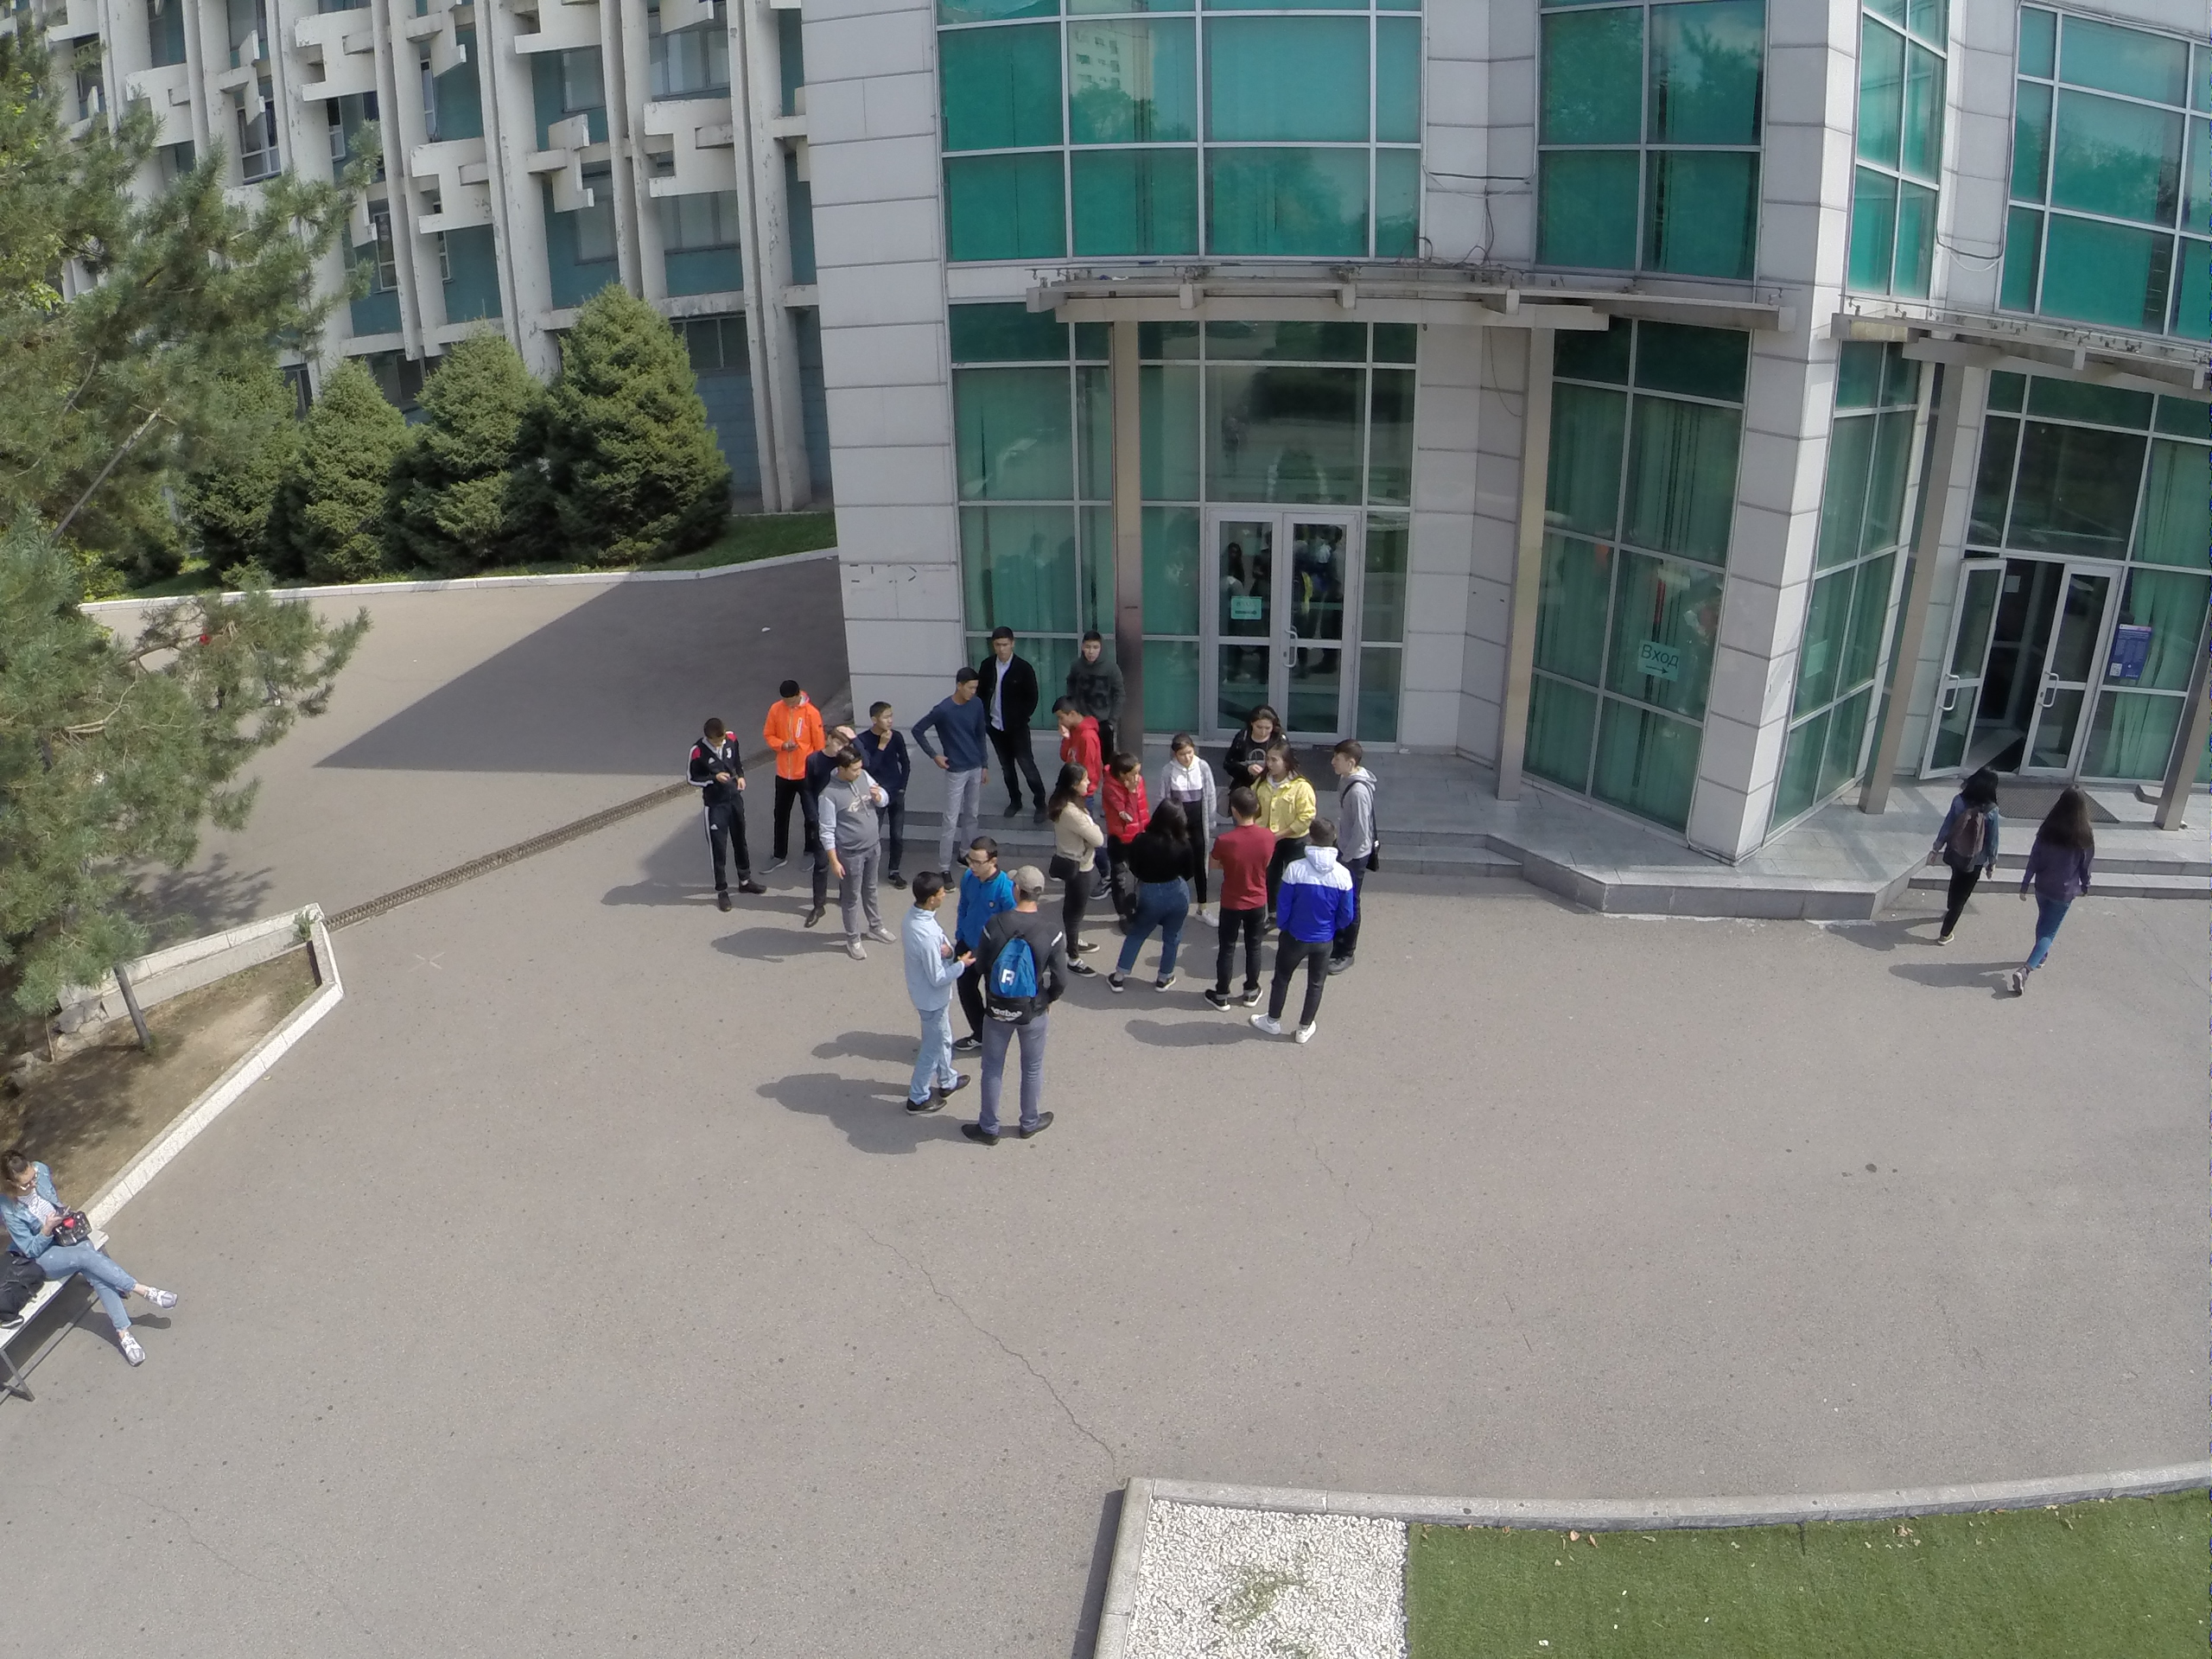person: (1, 1151, 175, 1369), (977, 867, 1058, 1147), (1252, 817, 1344, 1045), (2007, 783, 2101, 1002), (685, 714, 766, 918), (1105, 792, 1188, 994), (904, 874, 969, 1122), (820, 753, 898, 961), (1924, 760, 2004, 949), (1044, 760, 1103, 980), (983, 626, 1049, 825), (1206, 784, 1262, 1010), (1329, 740, 1382, 975), (920, 664, 985, 841), (761, 678, 817, 878), (956, 836, 1013, 938), (1256, 743, 1311, 825), (1065, 626, 1123, 706), (1102, 746, 1151, 836), (1047, 696, 1109, 764), (1226, 702, 1287, 764), (1166, 730, 1215, 804), (855, 697, 906, 759)
